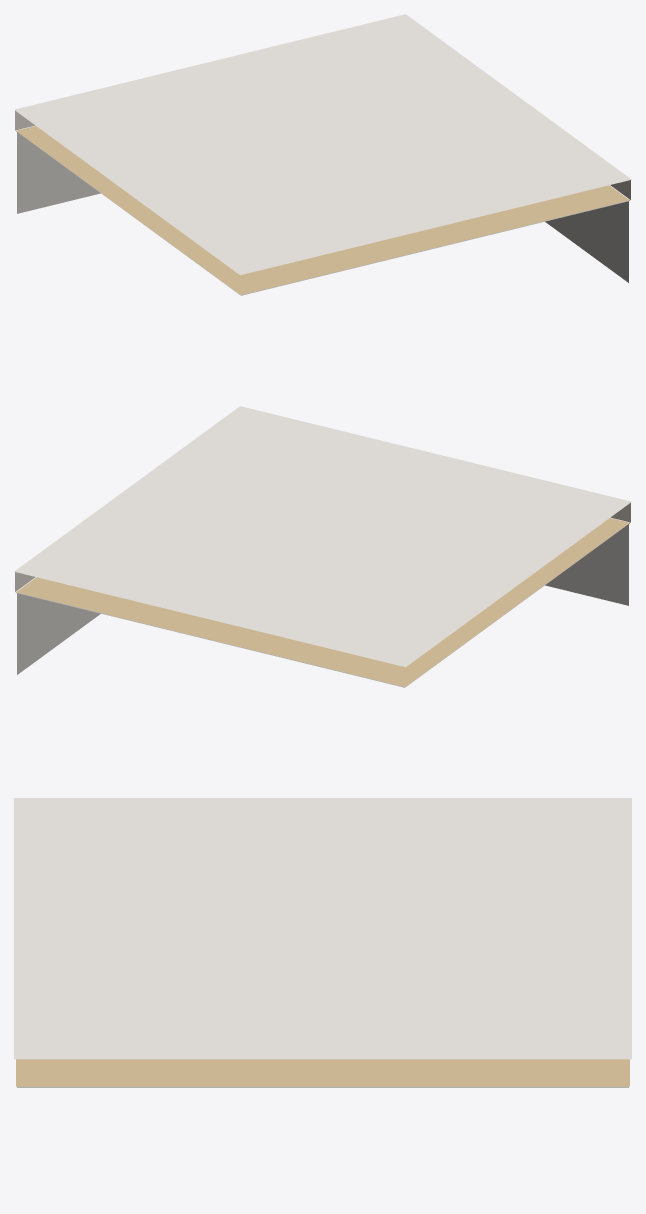
File: terrazzo-multi.glb
3 renders of one model, top to bottom at view 1: azimuth 30°, elevation 25°; view 2: azimuth 150°, elevation 25°; view 3: azimuth 270°, elevation 25°, orthographic. The views are drawn at different scales.
Visible parts, largest first — view 1: topcoat, primer, substrate; view 2: topcoat, primer, substrate; view 3: topcoat, primer, substrate.
Part boxes in pixels (bbox=[...]): topcoat: bbox=[14, 14, 631, 275]; primer: bbox=[16, 126, 629, 294]; substrate: bbox=[17, 132, 628, 295]; topcoat: bbox=[14, 406, 631, 667]; primer: bbox=[16, 518, 629, 686]; substrate: bbox=[17, 524, 628, 687]; topcoat: bbox=[14, 798, 631, 1059]; primer: bbox=[16, 1059, 629, 1086]; substrate: bbox=[17, 1086, 628, 1087].
Bounding box in the file's own units: 0.3 × 0.076 × 0.3.
